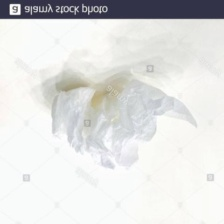tissue: (44, 64, 203, 176)
